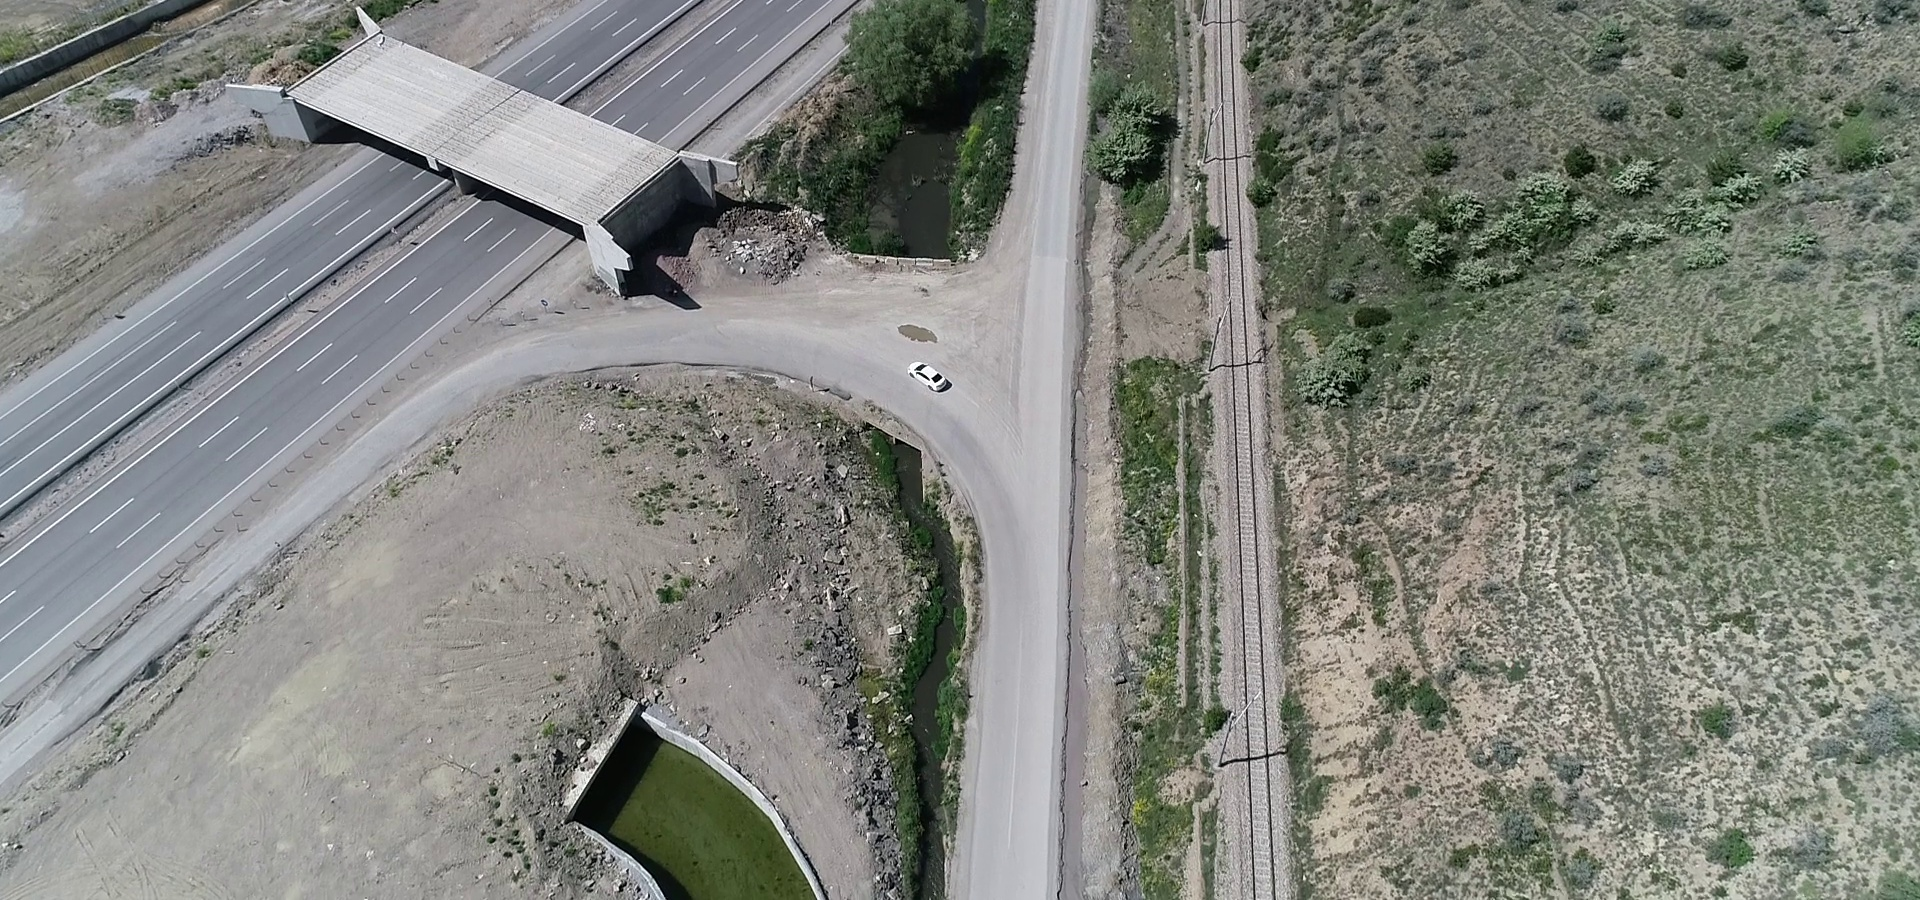araba: (898, 354, 964, 394)
